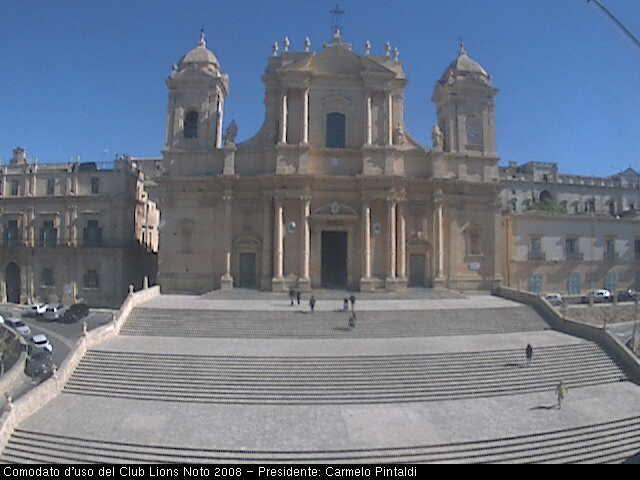person: (555, 378, 568, 410), (524, 342, 535, 367), (348, 312, 358, 332), (287, 288, 297, 307), (349, 295, 357, 314), (309, 295, 316, 313), (295, 290, 302, 305), (341, 297, 348, 311)
